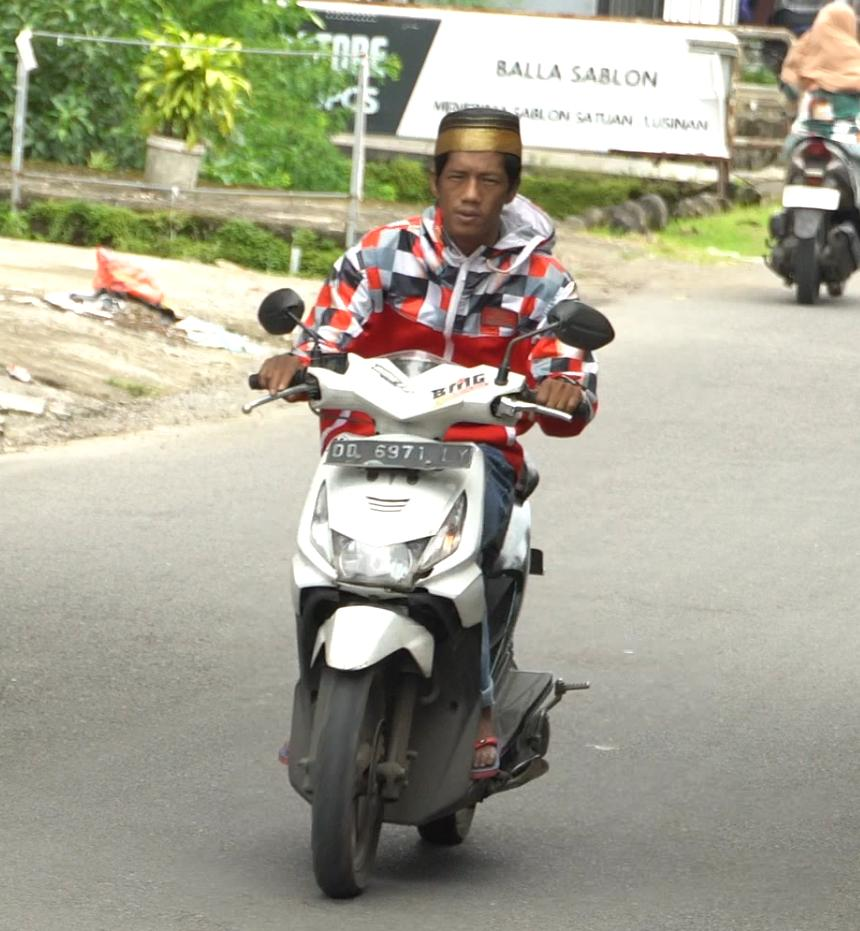number-plate: (322, 436, 477, 472)
